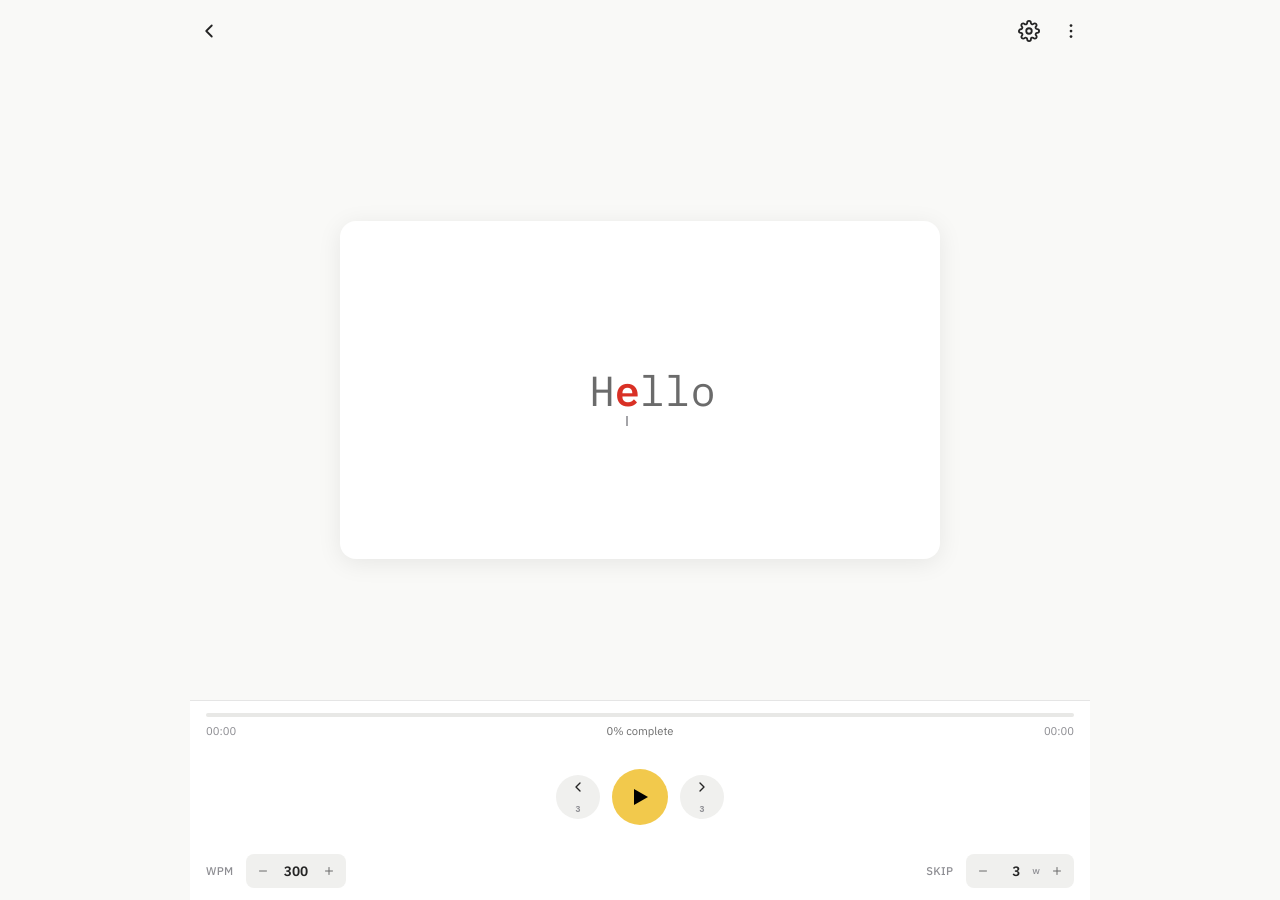
RSVPPlayer › playback controls › toggles between play and pause
Step 1. Click the button named "Play" → {"x": 640, "y": 797}, box x1=612 y1=769 x2=668 y2=825
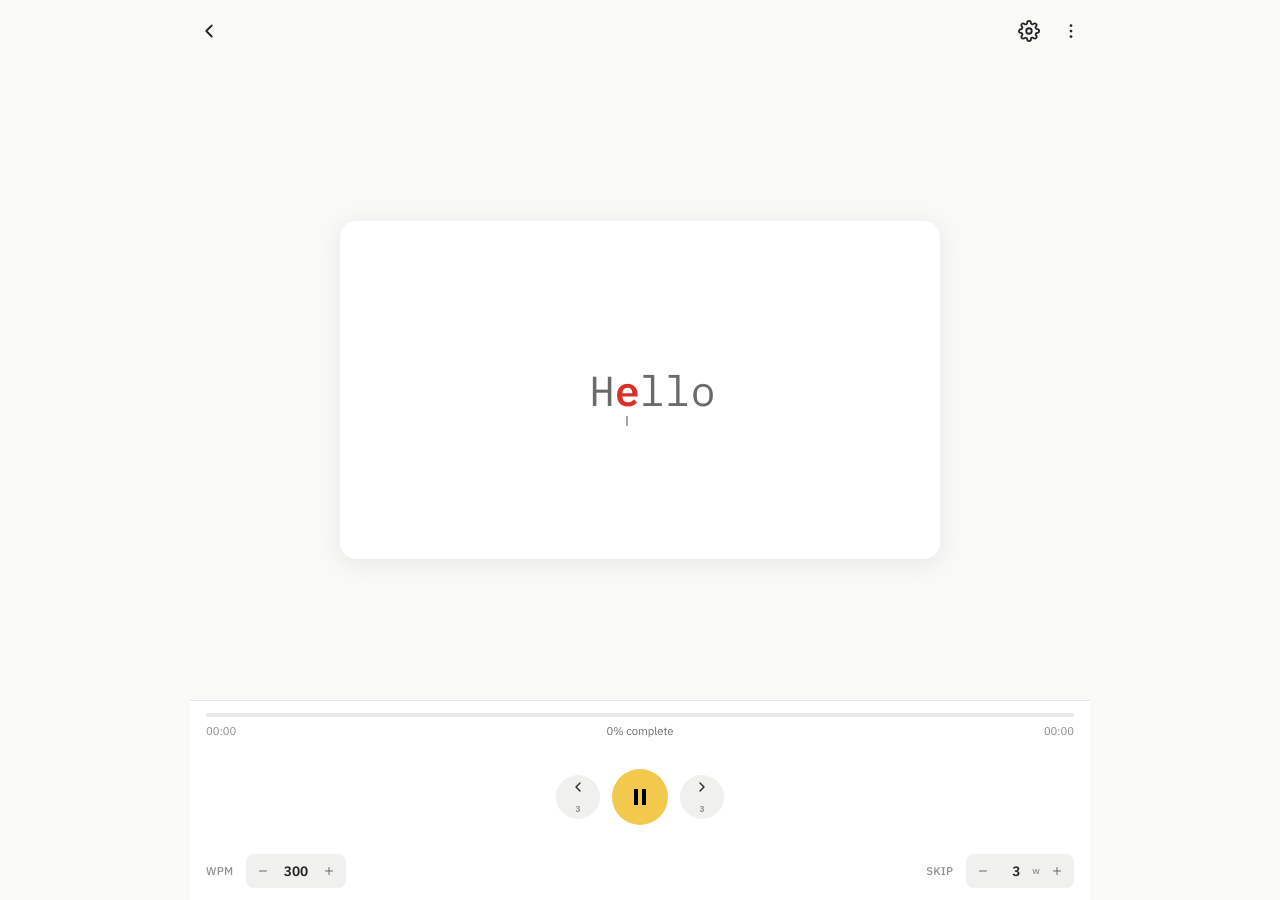
Expected: the button named "Pause" is shown
Step 2. Click the button named "Pause" → {"x": 640, "y": 797}, box x1=612 y1=769 x2=668 y2=825
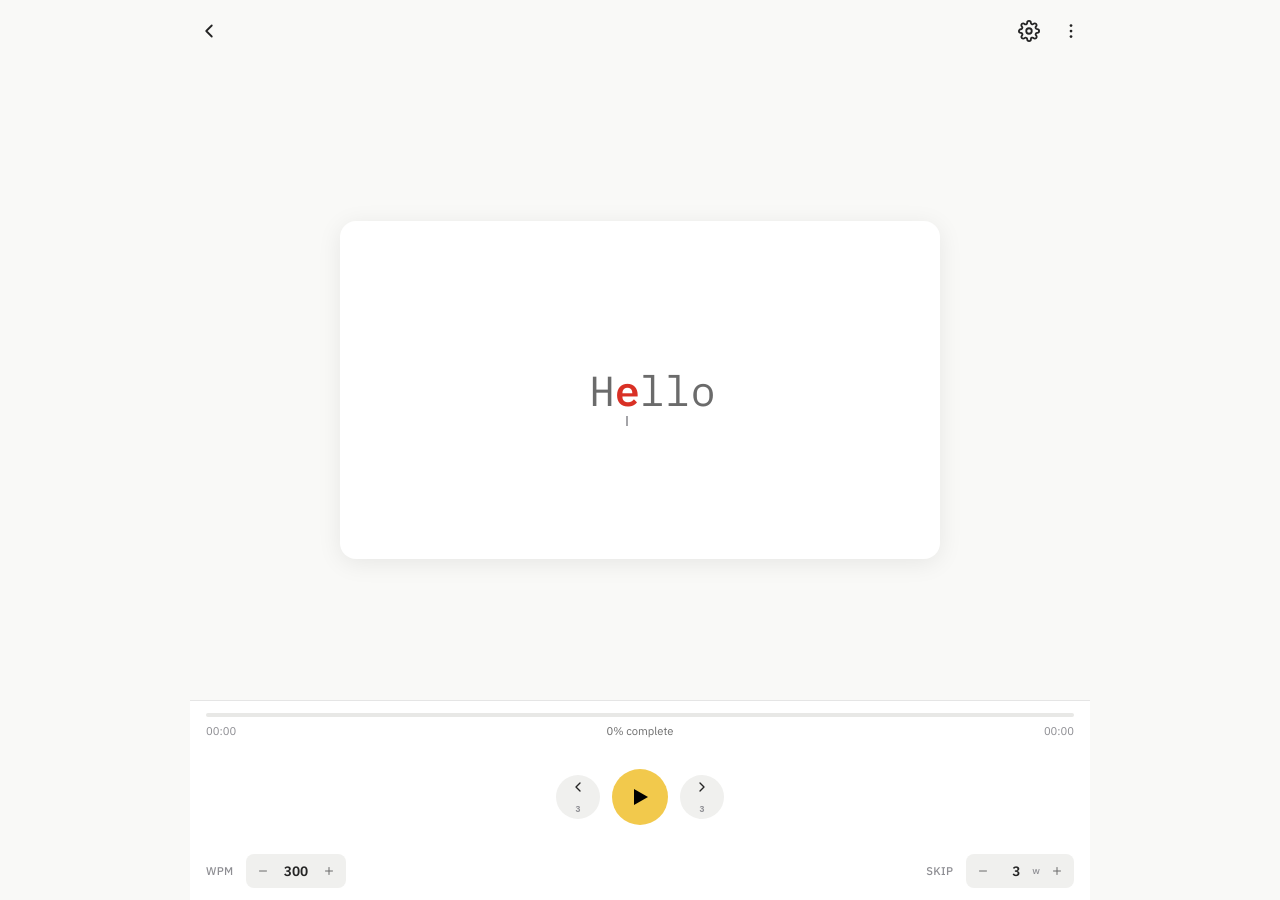
Expected: the button named "Play" is shown, x1=612 y1=769 x2=668 y2=825
